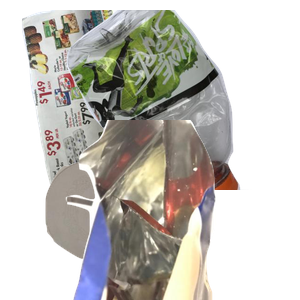glass: (43, 159, 187, 300)
paper: (19, 10, 223, 190)
plastic: (64, 10, 300, 190)
trash: (63, 120, 300, 300)
